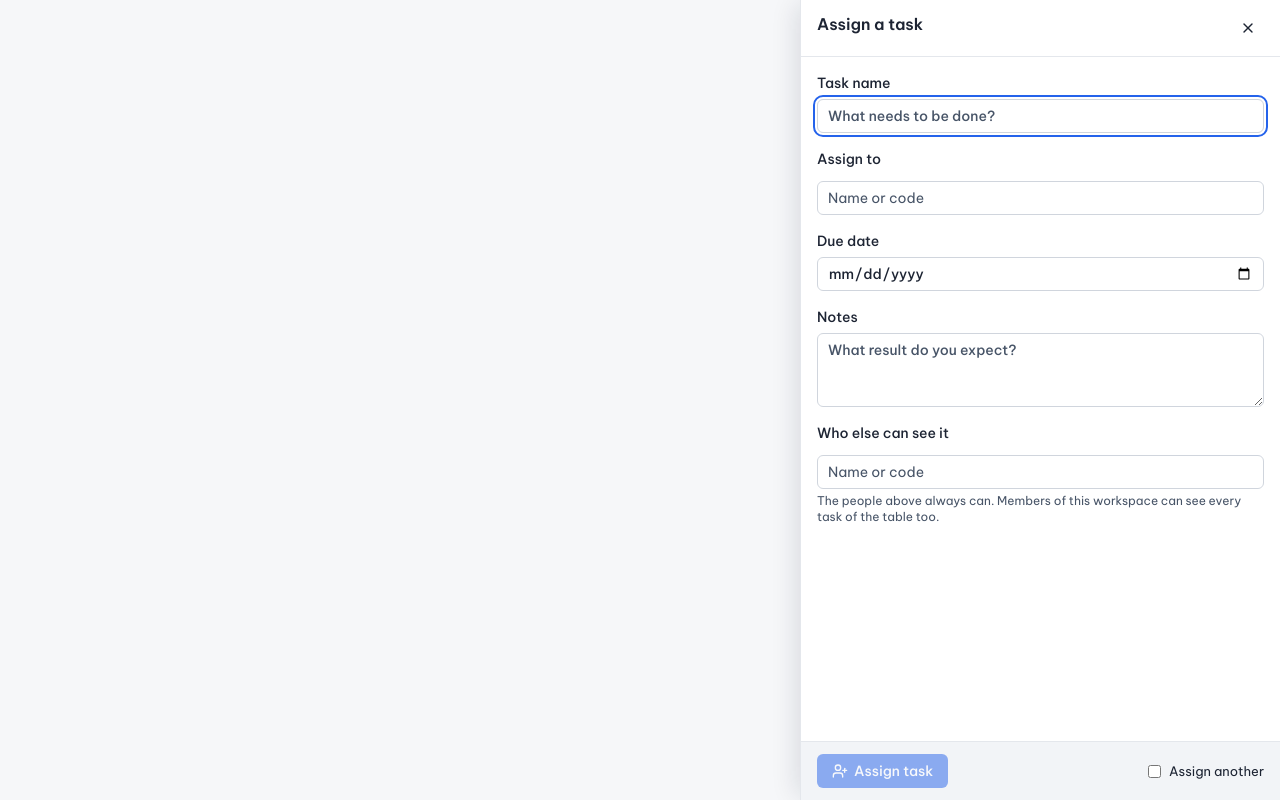
AssignTaskDrawer › stays open and keeps the person for the next task when asked
Click the checkbox labelled "Assign another". click: {"x": 1154, "y": 771}
box: [1148,764,1161,778]
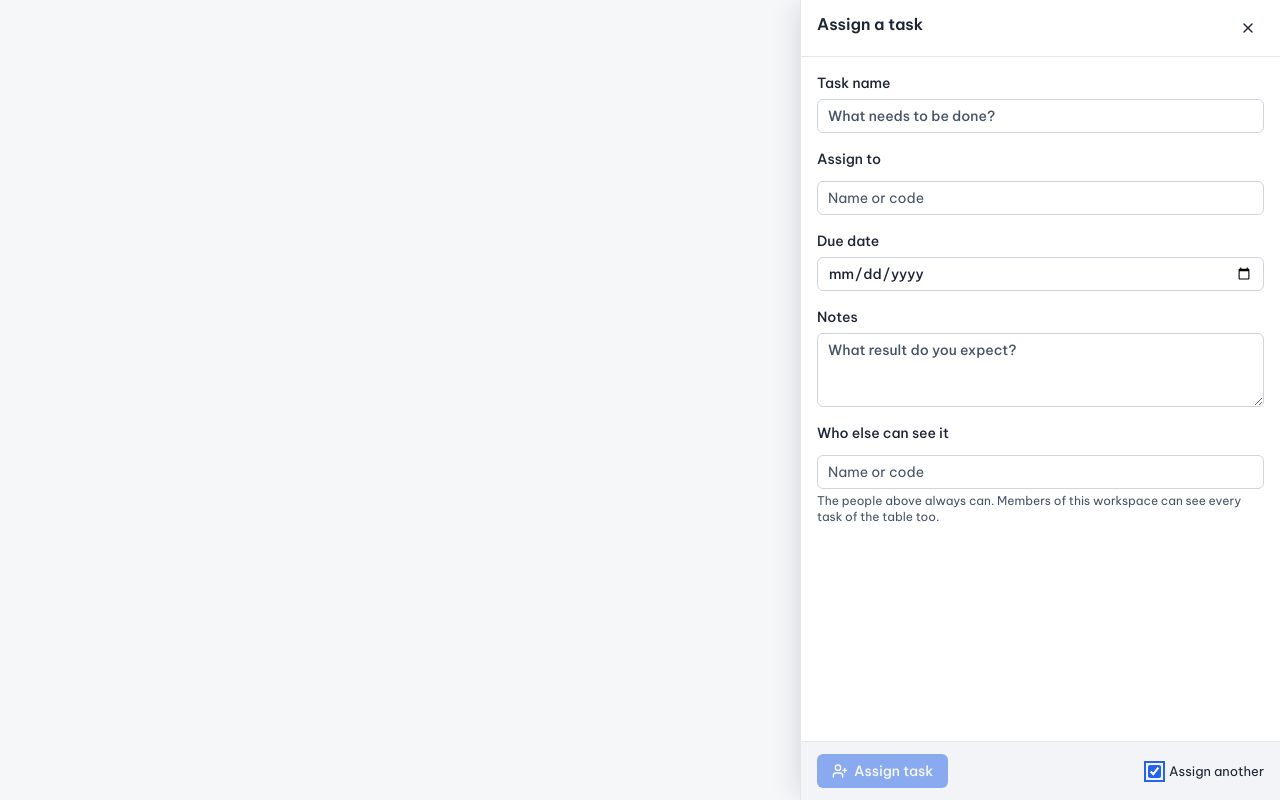
Type "First" into the field labelled "Task name". click: {"x": 1040, "y": 116}
box: [817,99,1264,133]
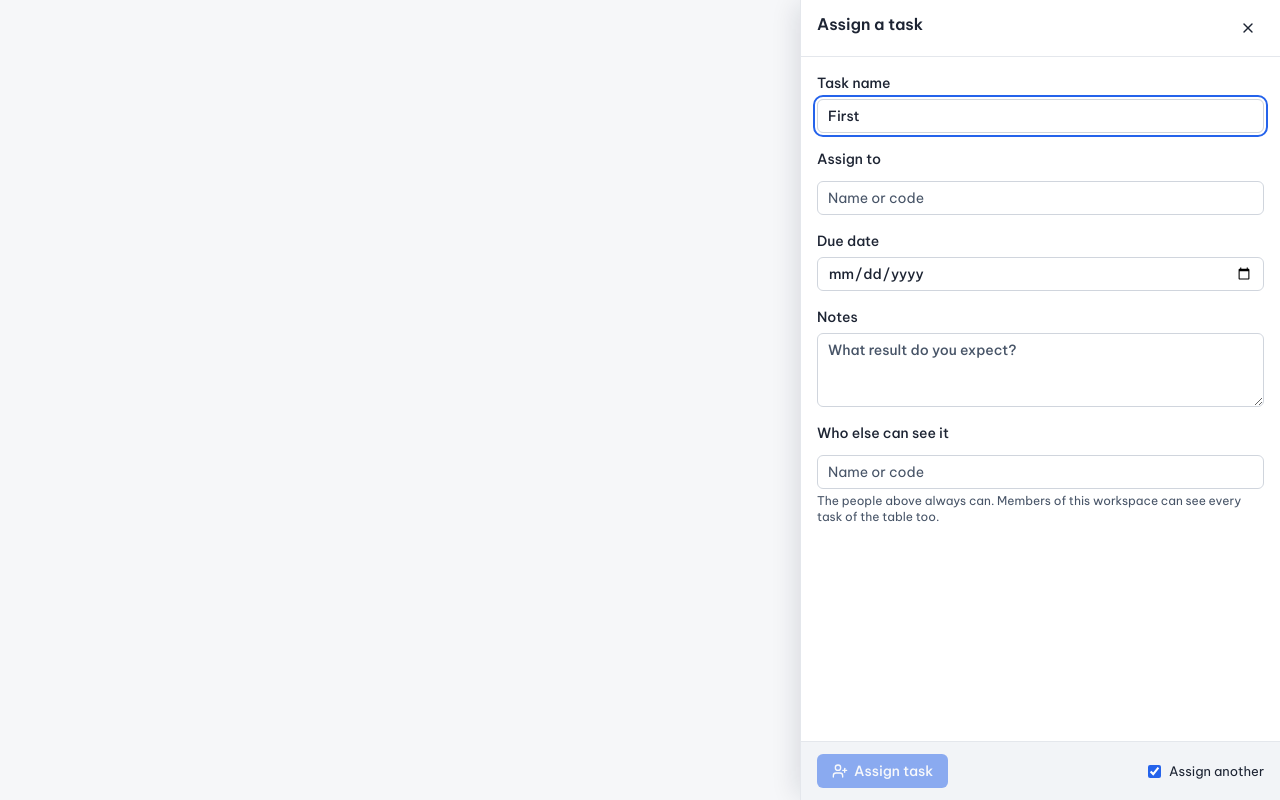
Type "a" into the search field with placeholder "Name or code" below "Assign to". click: {"x": 1040, "y": 198}
box: [817,181,1264,215]
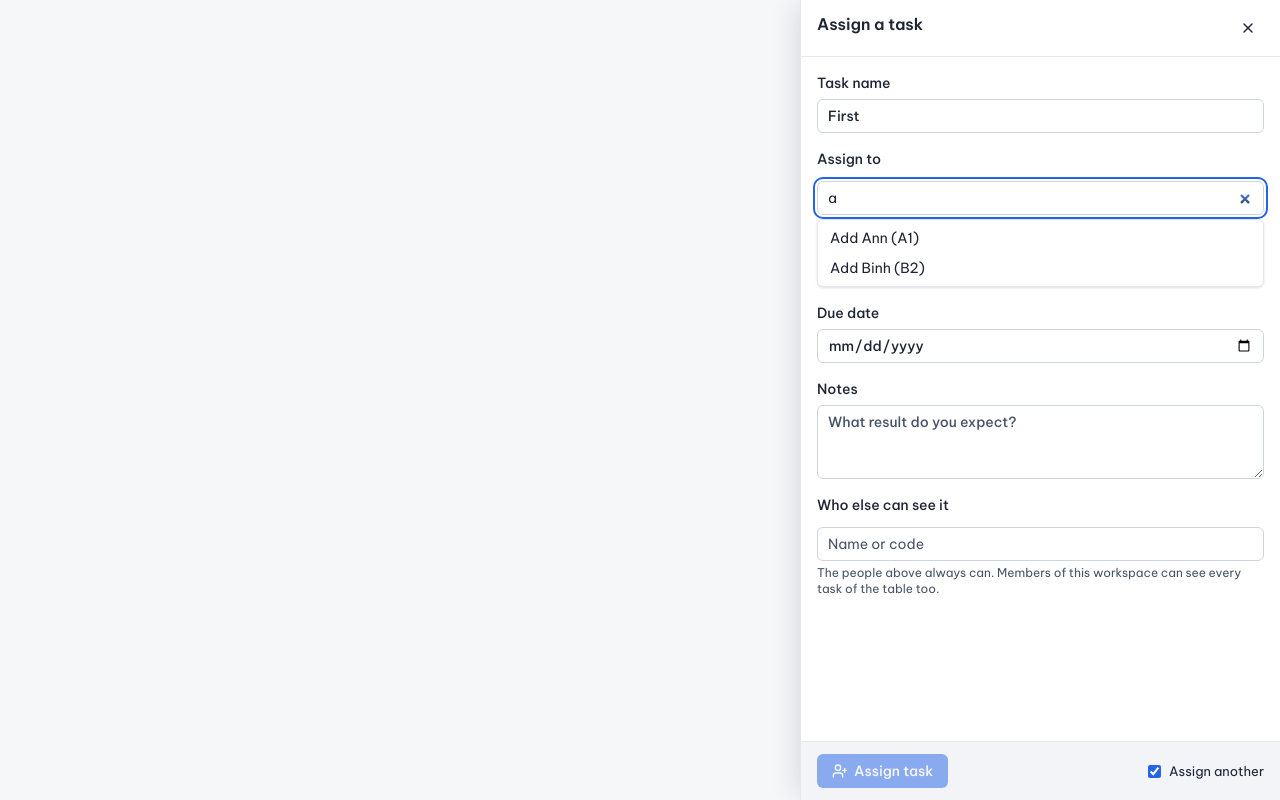
Click the button "Add Ann (A1)". click: {"x": 846, "y": 238}
box: [822,224,1259,252]
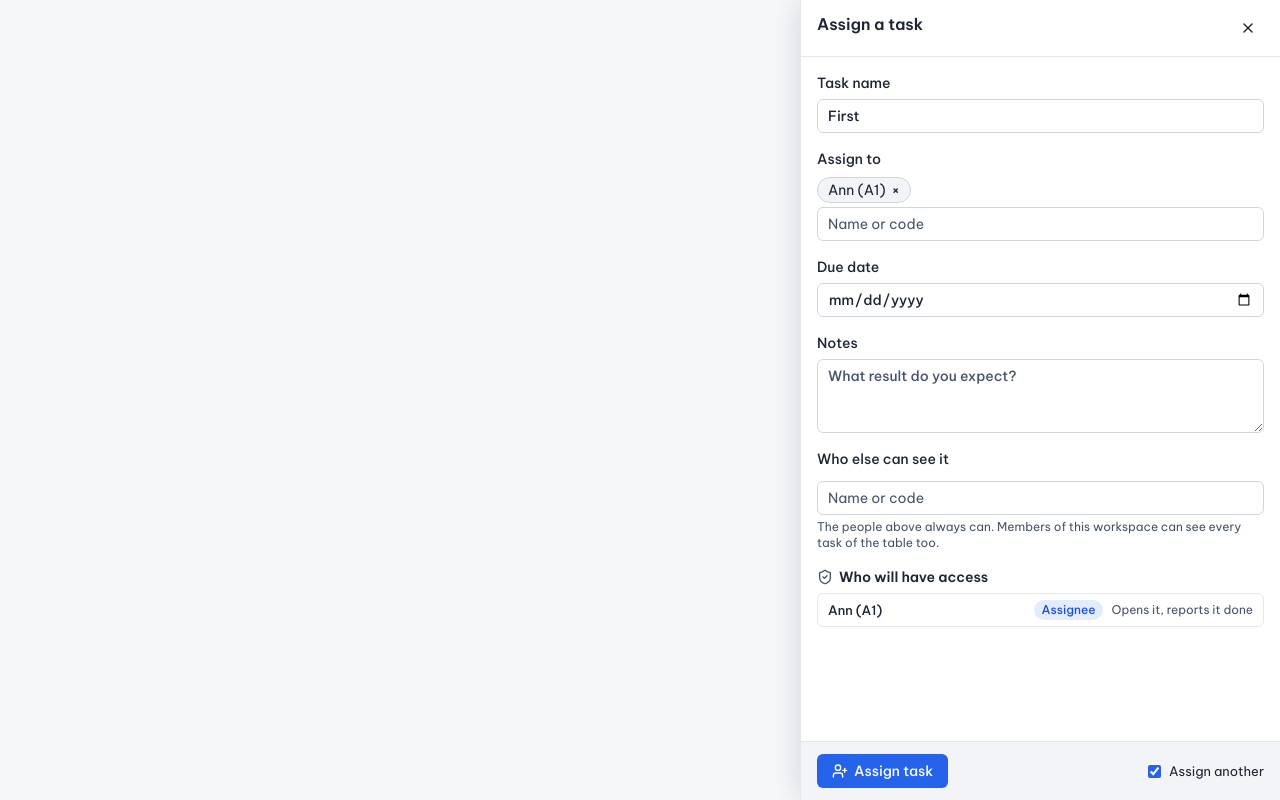
Click the button "Assign task". click: {"x": 883, "y": 771}
box: [817,754,948,788]
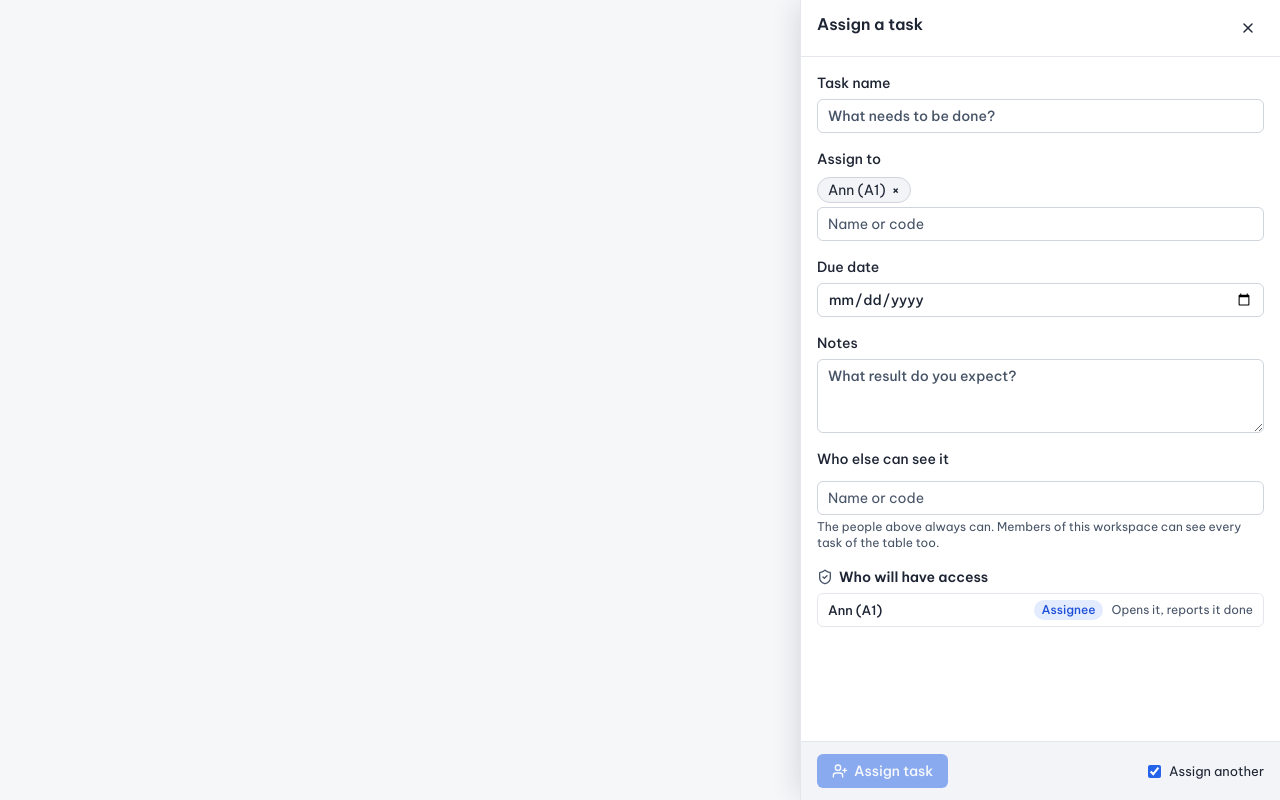
Result: the list item "Ann (A1)" is shown at [828,181,886,199]
Result: the field labelled "Task name" is empty at [817,99,1264,133]
